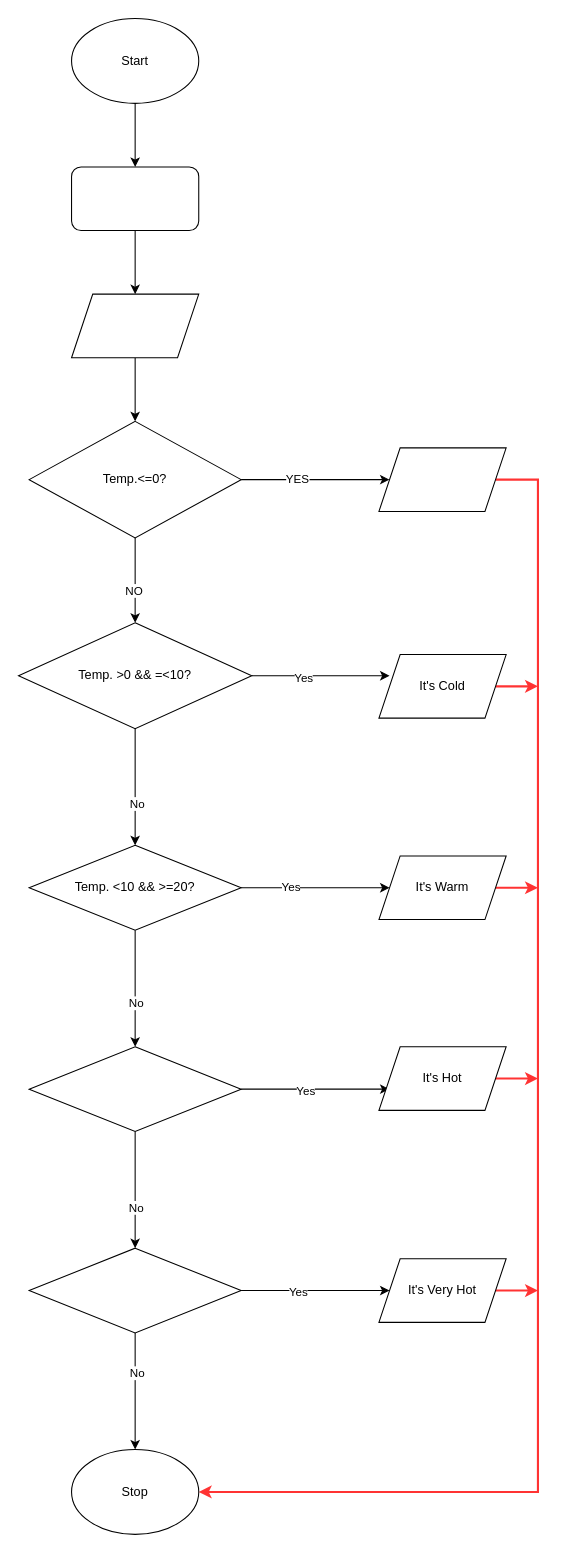
Image size: 566x1553. Some labels were removed from this diagram. The shapes that lost their labels are listed below. From the top down, each one's box as (x1, y1, x2, y2) in pixels, then its label:
(70, 166, 199, 231): Temp.
(70, 293, 199, 358): Input Temp.
(378, 447, 506, 511): It's Freezing
(28, 1046, 241, 1132): Temp. >20 && <=30?
(28, 1247, 241, 1333): Temp. . >30?
